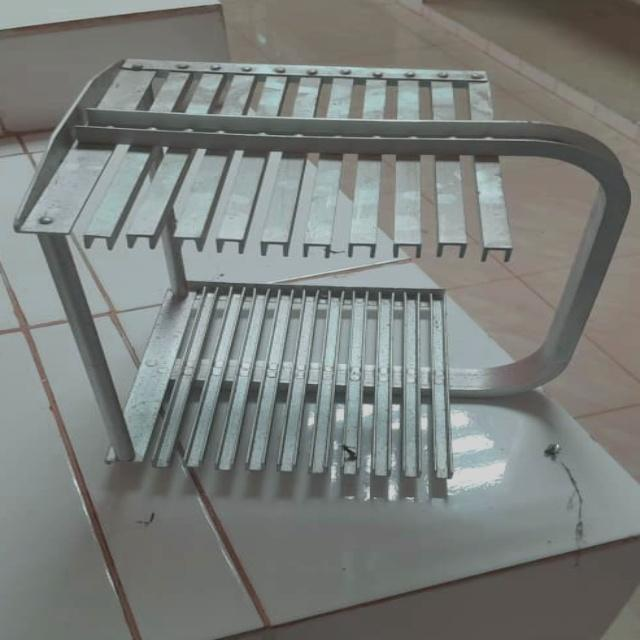Plate Rack: (1, 49, 634, 497)
